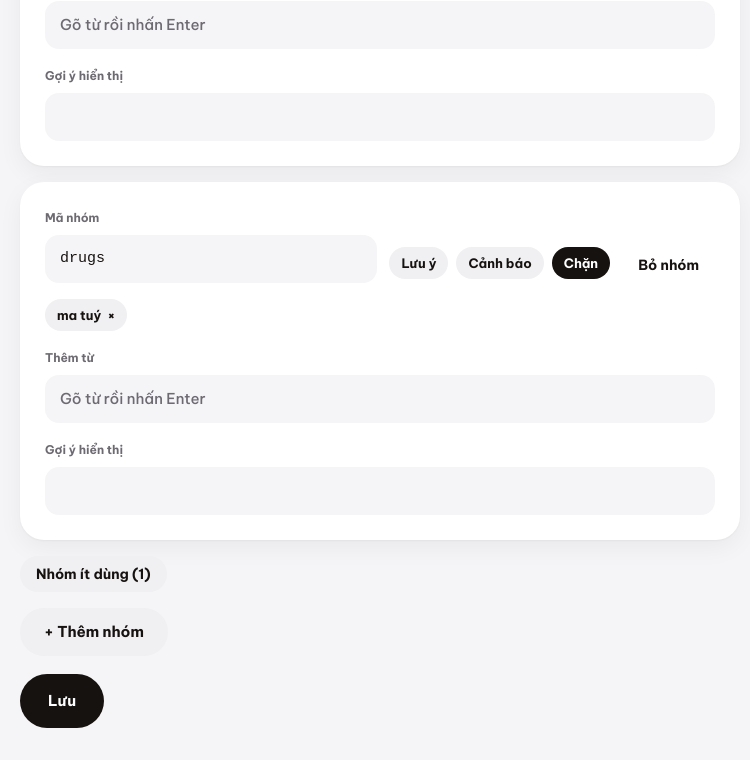
Cài đặt: từ nhạy cảm › folds the rarely used (Lưu ý) groups into a collapsed section
(page scrolled)
Click the button "Nhóm ít dùng (1)".
click(93, 574)  # box [20,556,167,592]
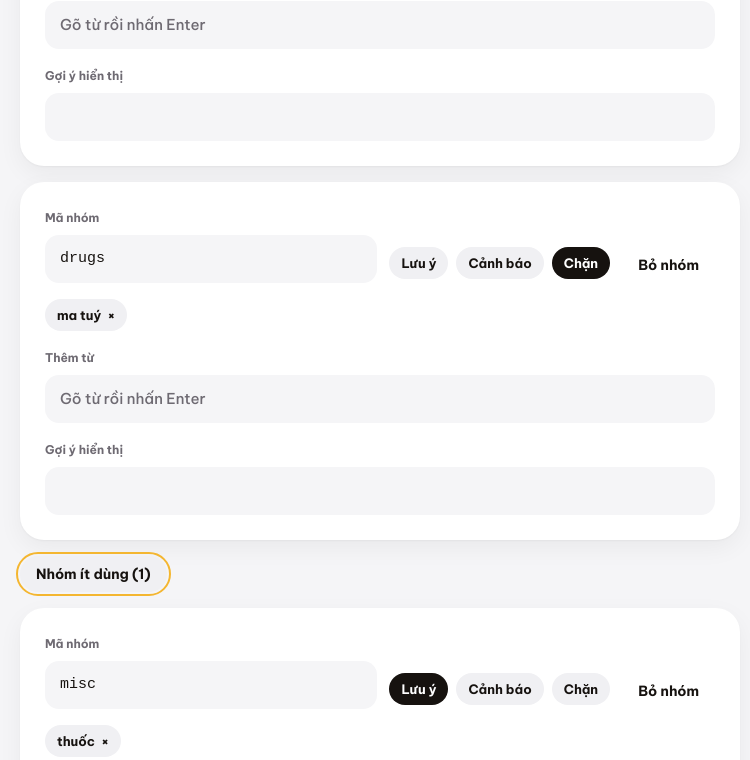
Expected: the list named "Từ của nhóm misc" is shown, [45,725,121,757]
